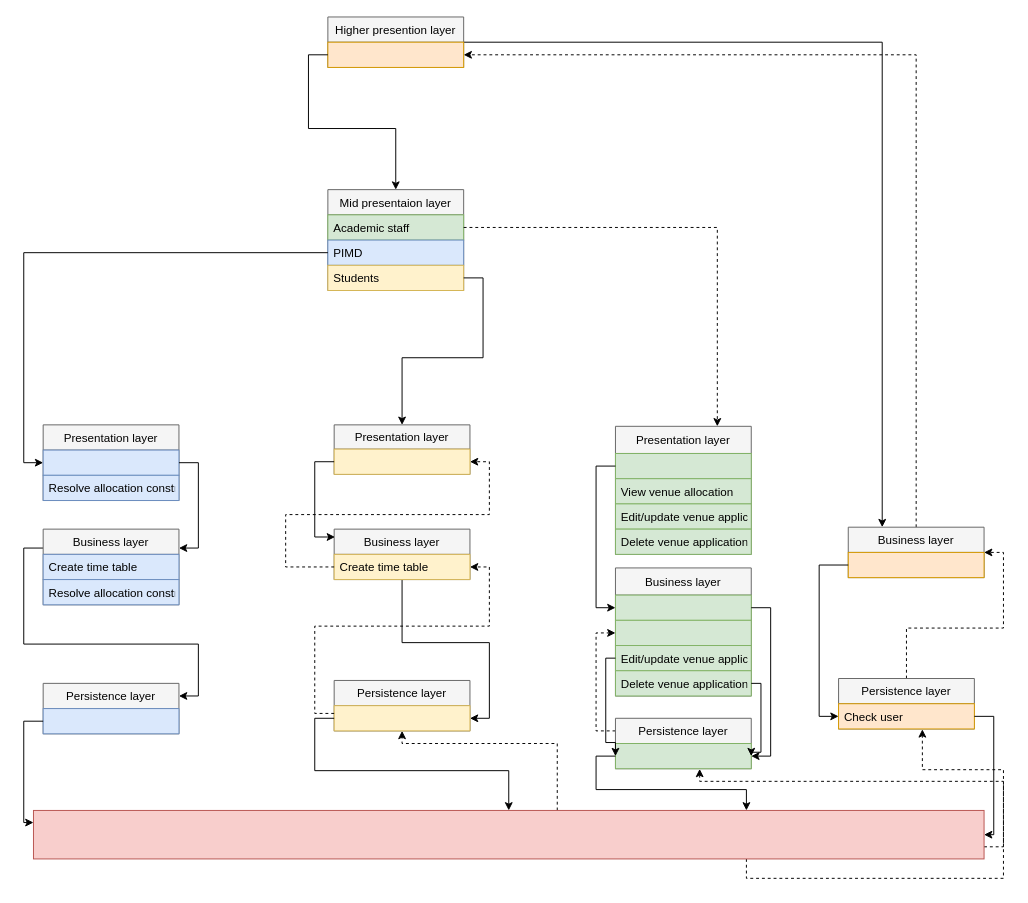
Some shapes in this 1028 by 903 pixel diagram are drawn without their labels. Here are the shapes that lost their labels. From the top down, the centre of each, then its label:
the point at 395,54: Login/Authentication
the point at 110,462: Generate venue allocation
the point at 401,461: Request/view timetable
the point at 682,466: Apply for venue
the point at 915,564: Identify user
the point at 682,607: Create application
the point at 682,632: Get venue allocation
the point at 110,721: Place allocation
the point at 401,718: Get/send student details
the point at 682,756: Process service
the point at 508,834: Database layer
